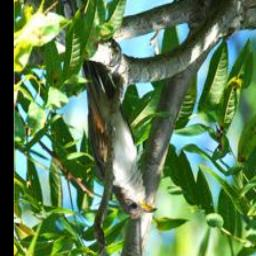Cuckoo: (81, 62, 157, 221)
